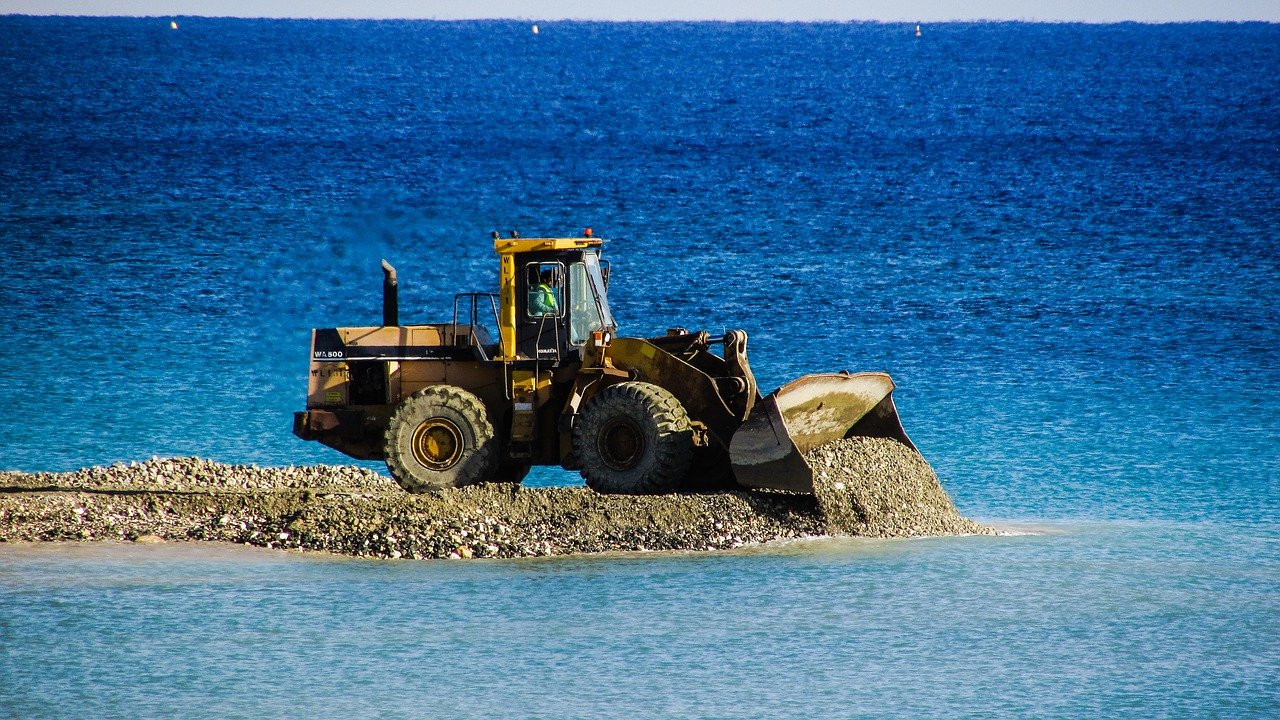bulldozer: (299, 227, 959, 527)
